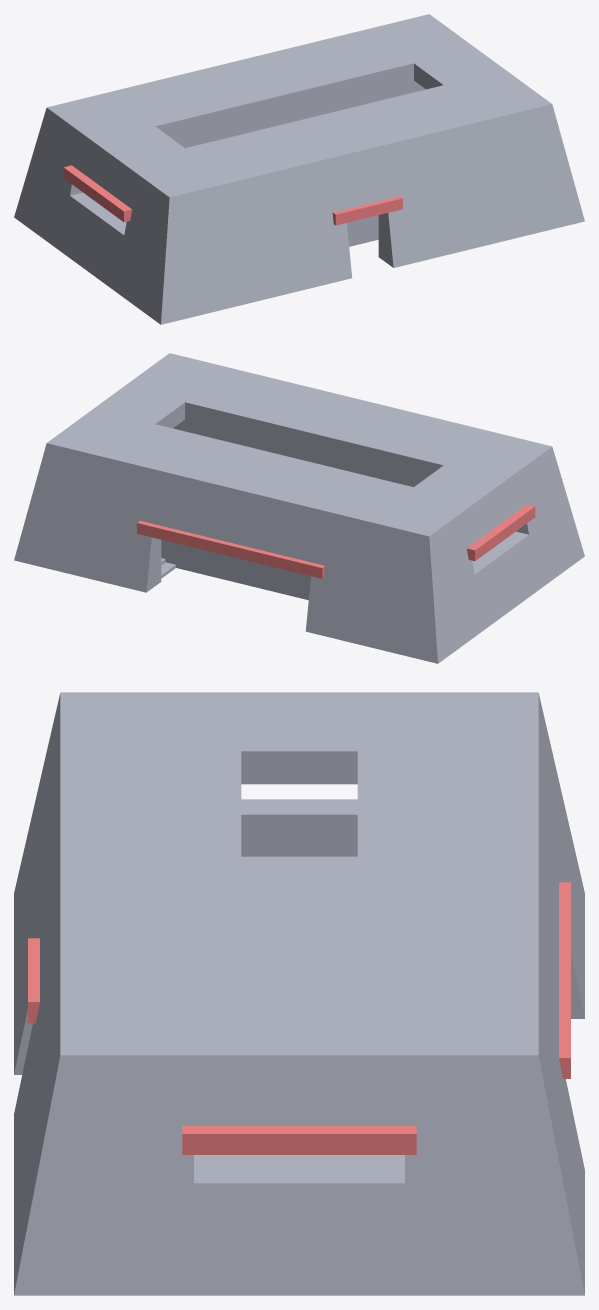
File: unit_01.glb
3 renders of one model, top to bottom at view 1: azimuth 30°, elevation 25°; view 2: azimuth 150°, elevation 25°; view 3: azimuth 270°, elevation 25°, orthographic. The views are drawn at different scales.
Parts seen in each view (by area): view 1: mass; view 2: mass; view 3: mass.
Boxes of the visible parts, box(x1,y1,x2,y2) form: mass: box(14, 14, 584, 324); mass: box(14, 353, 584, 663); mass: box(14, 692, 584, 1295).
Size of what is drawn, in the model's own units: 25 by 6.4 by 15.
